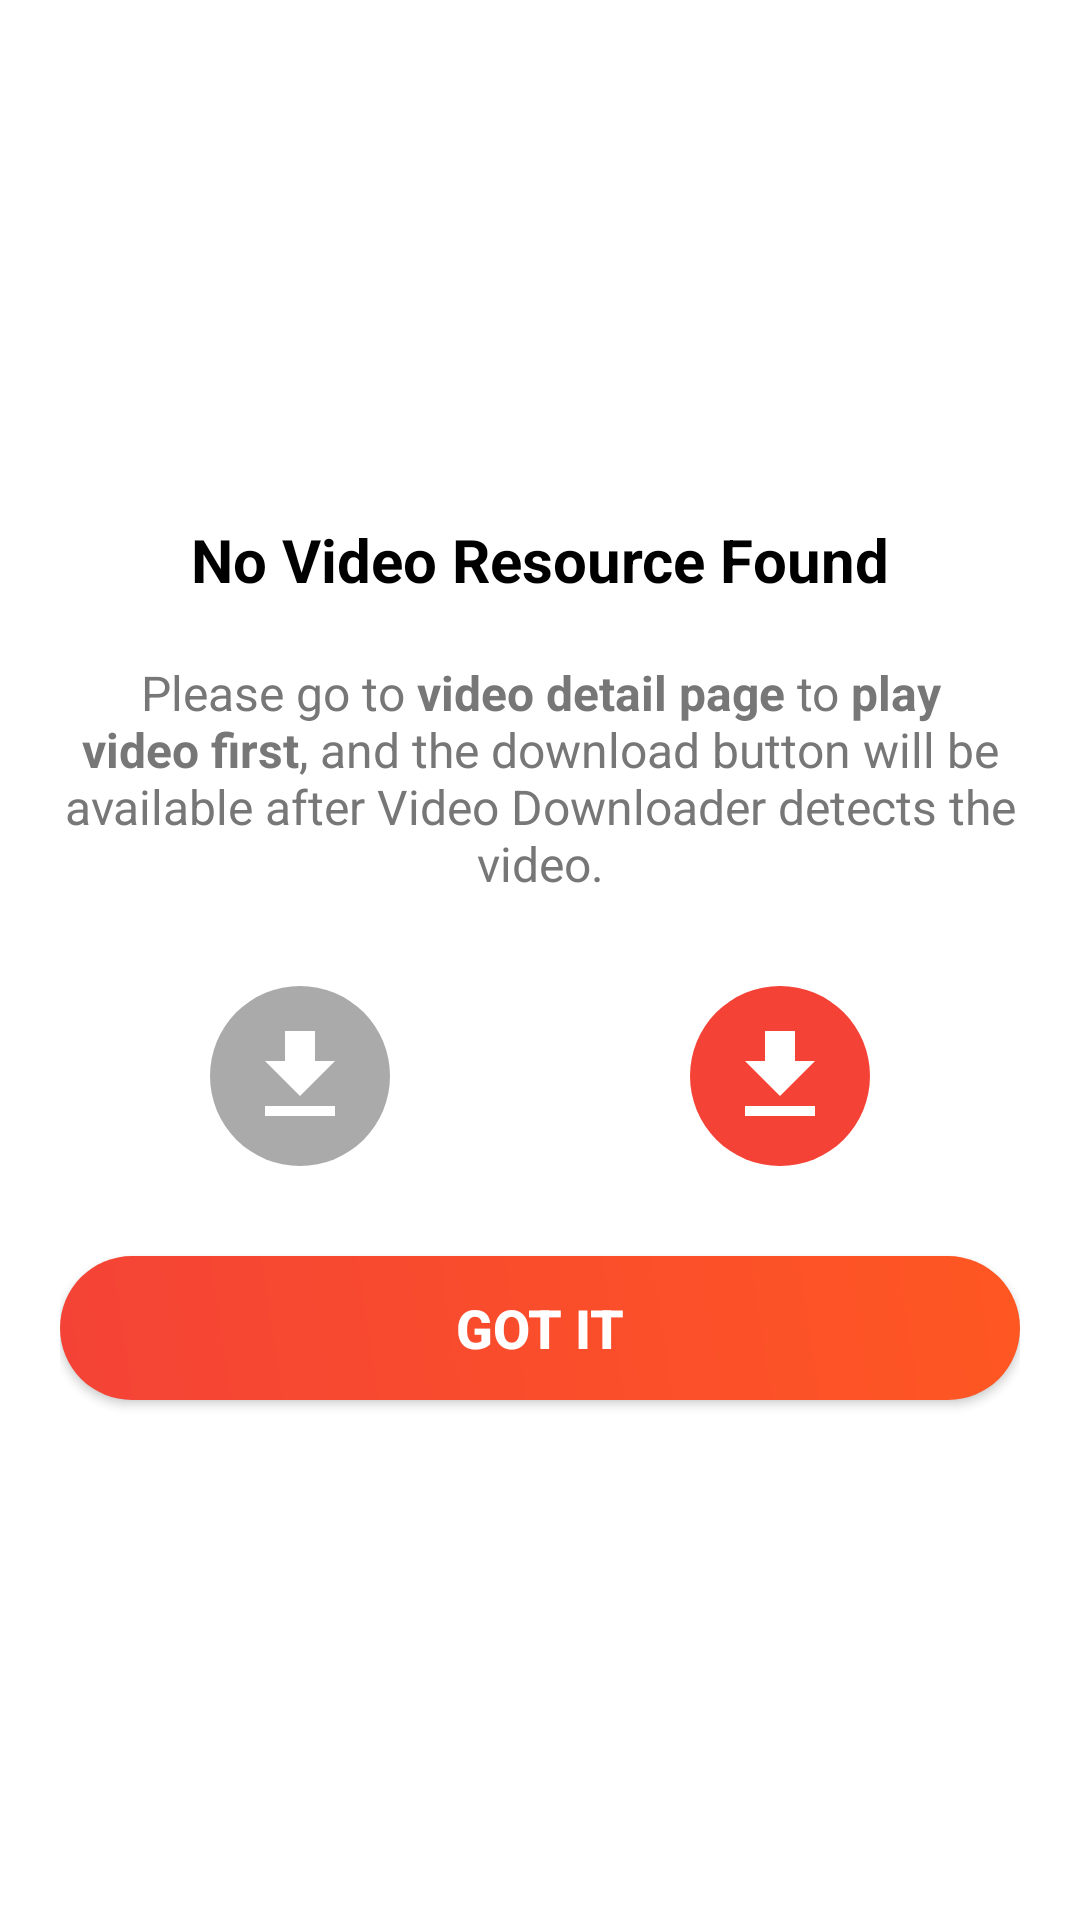

Icons on this 1080×1920 Android screen, each with its box as (x1, y1, x2, y2):
file download: (210, 986, 390, 1166), (690, 986, 870, 1166)
